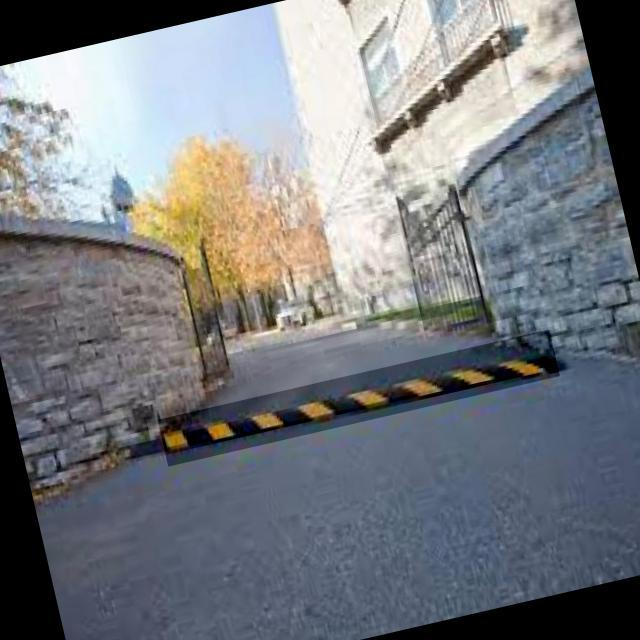speedbreaker: (158, 329, 560, 466)
